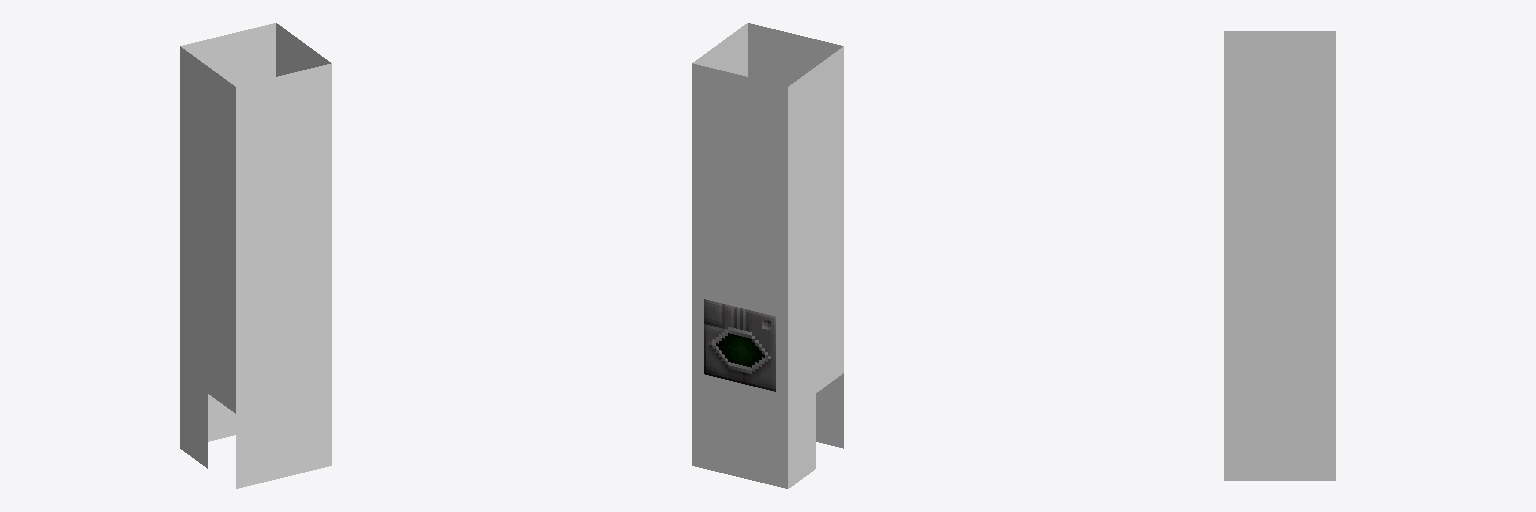
The picture shows the model from 3 angles: view 1: azimuth 30°, elevation 25°; view 2: azimuth 150°, elevation 25°; view 3: azimuth 270°, elevation 25°; orthographic projection.
Visible parts, largest first — view 1: SWLITE01.1; view 2: SWLITE01.1; view 3: SWLITE01.1.
Part boxes in pixels (x1,y1,x2,y2): SWLITE01.1: (180, 23, 331, 488); SWLITE01.1: (692, 23, 843, 488); SWLITE01.1: (1224, 31, 1335, 480).
Bounding box in the file's own units: 64 × 256 × 64.
Materials: 5 (1 with a texture image).